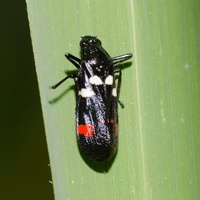insect: (51, 36, 131, 161)
